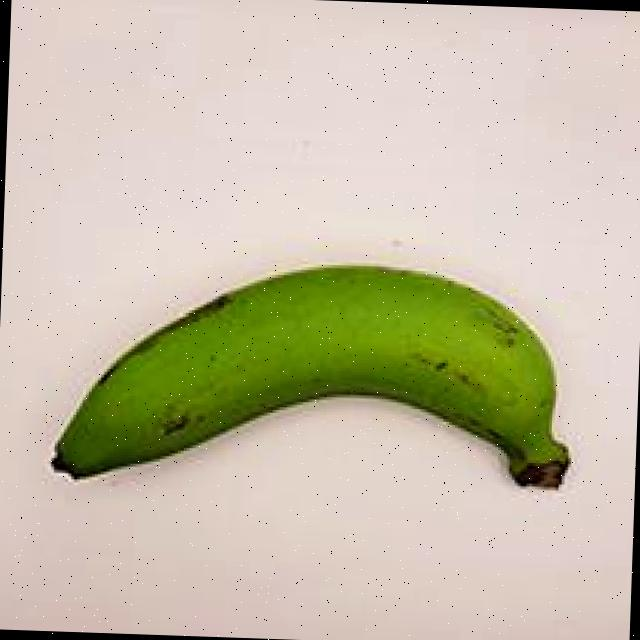Raw: (38, 228, 606, 551)
